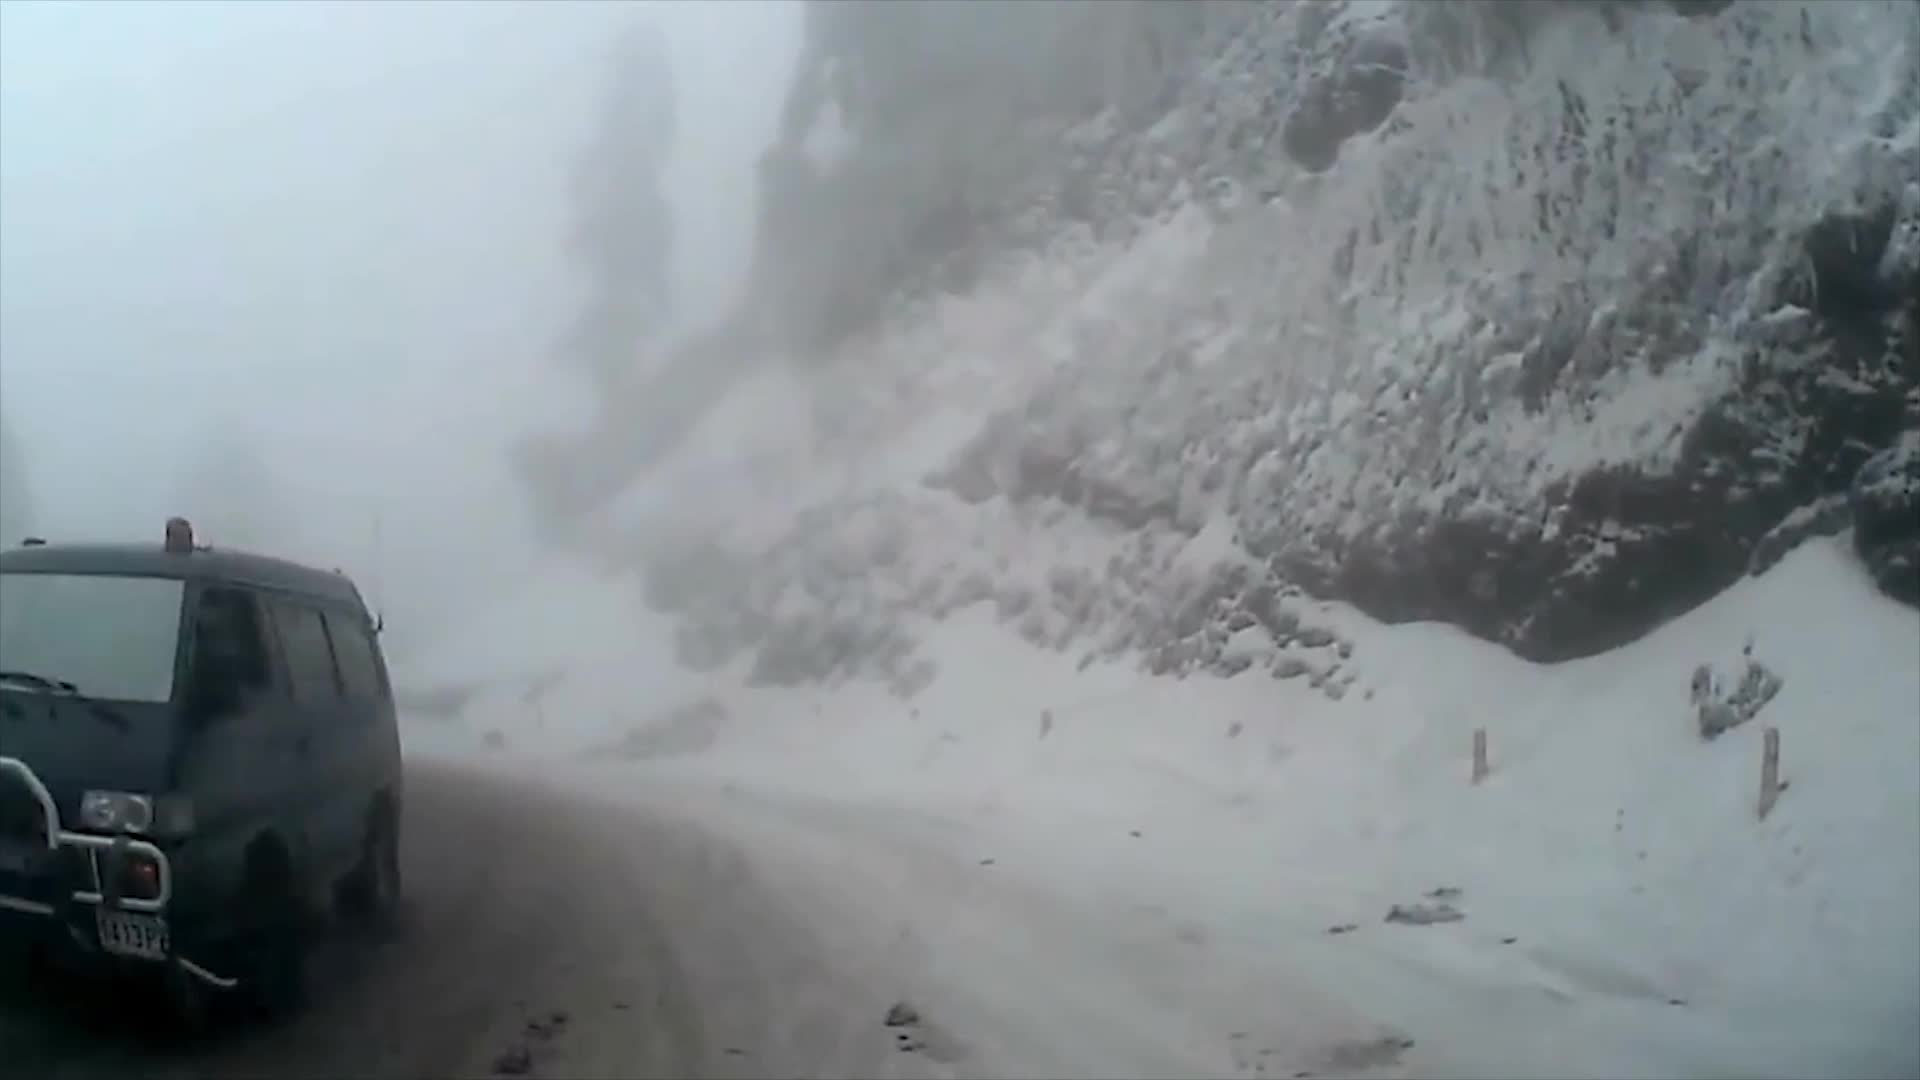vehicle: (0, 516, 406, 1036)
